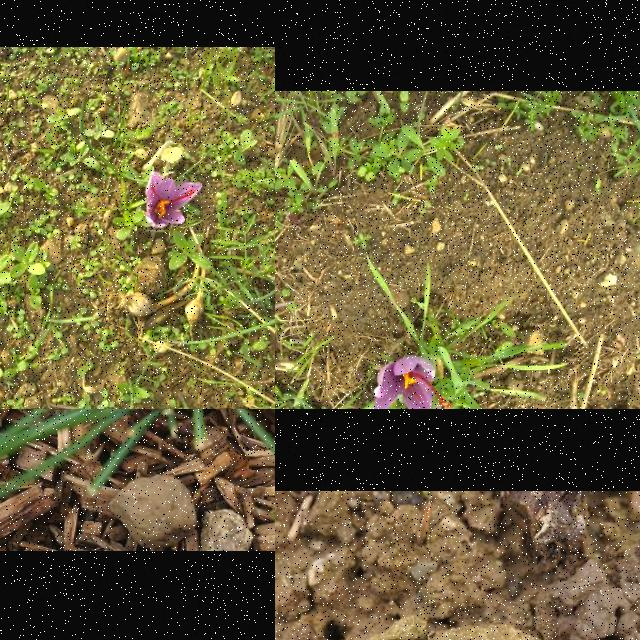flower: (374, 356, 452, 409), (145, 172, 203, 228)
